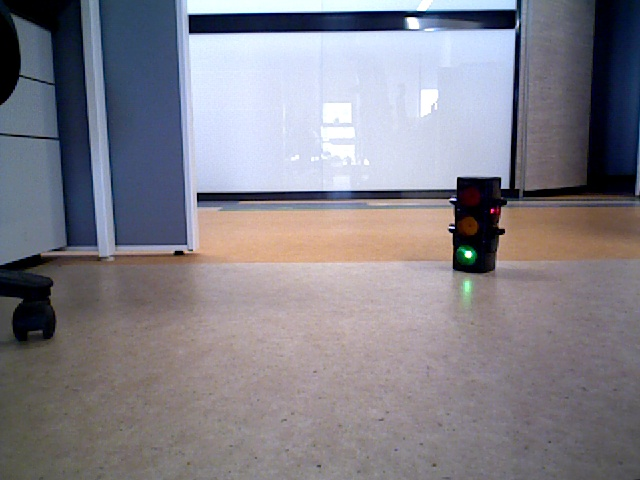green: (458, 175, 497, 270)
